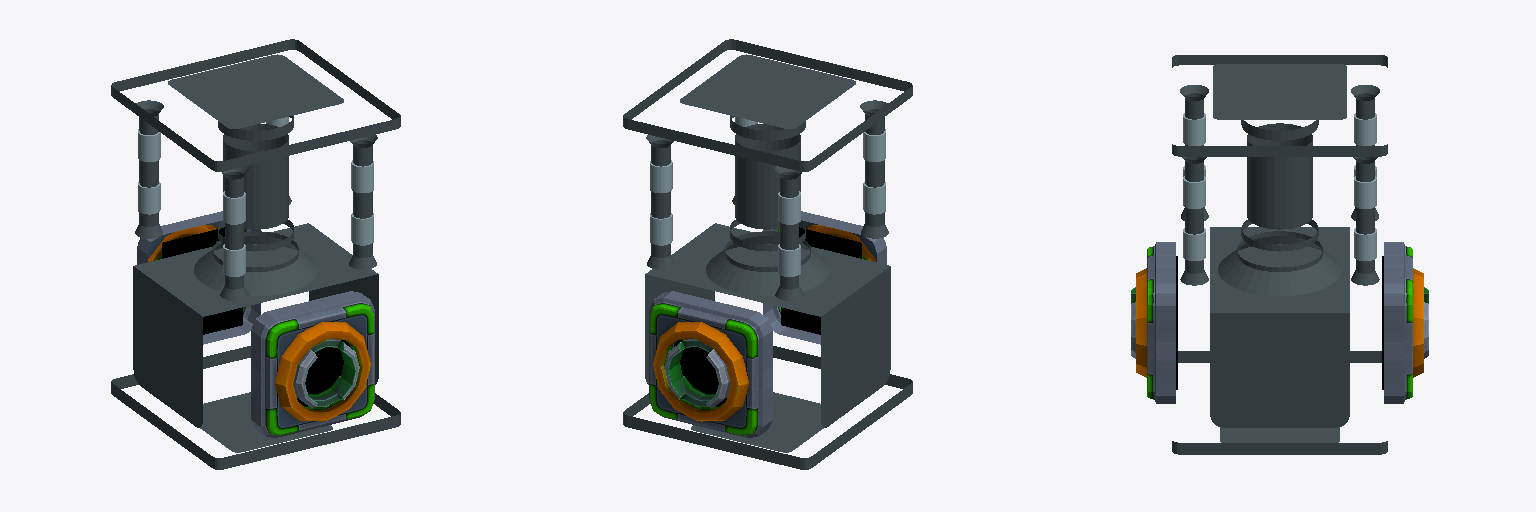
The picture shows the model from 3 angles: view 1: azimuth 30°, elevation 25°; view 2: azimuth 150°, elevation 25°; view 3: azimuth 270°, elevation 25°; orthographic projection.
Parts seen in each view (by area): view 1: fant_seedpress_Cube.001; view 2: fant_seedpress_Cube.001; view 3: fant_seedpress_Cube.001.
Boxes of the visible parts, x1=… form: fant_seedpress_Cube.001: x1=111, y1=39, x2=400, y2=469; fant_seedpress_Cube.001: x1=623, y1=39, x2=912, y2=469; fant_seedpress_Cube.001: x1=1131, y1=55, x2=1428, y2=454.
Size of the model in its own units: 3 by 4.99 by 4.01.
Materials: 1 (1 with a texture image).